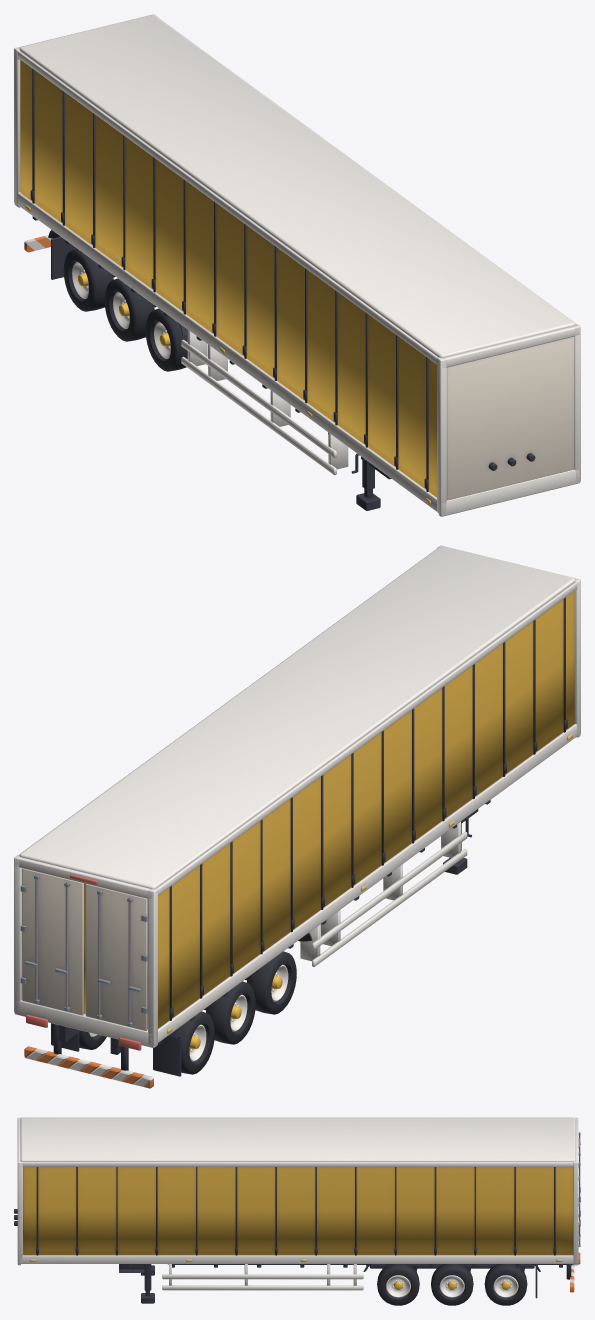
The model's file is truck-trailer.glb.
The picture shows the model from 3 angles, top to bottom: view 1: azimuth 30°, elevation 25°; view 2: azimuth 150°, elevation 25°; view 3: azimuth 270°, elevation 25°; orthographic projection. The views are drawn at different scales.
Visible parts, largest first — view 1: truck-trailer_body, truck-trailer_wheel_3r, truck-trailer_wheel_2r, truck-trailer_wheel_1r; view 2: truck-trailer_body, truck-trailer_wheel_1r, truck-trailer_wheel_2r, truck-trailer_wheel_3r; view 3: truck-trailer_body, truck-trailer_wheel_2l, truck-trailer_wheel_3l, truck-trailer_wheel_1l.
Boxes of the visible parts, x1=… form: truck-trailer_body: x1=14, y1=14, x2=580, y2=516; truck-trailer_wheel_3r: x1=63, y1=248, x2=113, y2=311; truck-trailer_wheel_2r: x1=104, y1=278, x2=154, y2=341; truck-trailer_wheel_1r: x1=145, y1=308, x2=187, y2=371; truck-trailer_body: x1=14, y1=545, x2=580, y2=1088; truck-trailer_wheel_1r: x1=247, y1=951, x2=296, y2=1014; truck-trailer_wheel_2r: x1=206, y1=981, x2=255, y2=1044; truck-trailer_wheel_3r: x1=179, y1=1011, x2=214, y2=1074; truck-trailer_body: x1=14, y1=1117, x2=580, y2=1303; truck-trailer_wheel_2l: x1=431, y1=1264, x2=473, y2=1305; truck-trailer_wheel_3l: x1=484, y1=1264, x2=527, y2=1305; truck-trailer_wheel_1l: x1=377, y1=1264, x2=419, y2=1305.
Bounding box in the file's own units: 2.64 × 4 × 13.8.
Materials: 19 (1 with a texture image).
